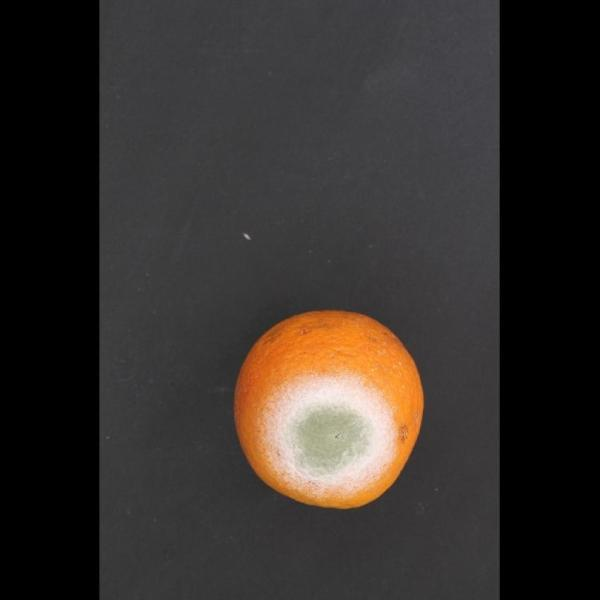Moho verde: (219, 302, 433, 512)
